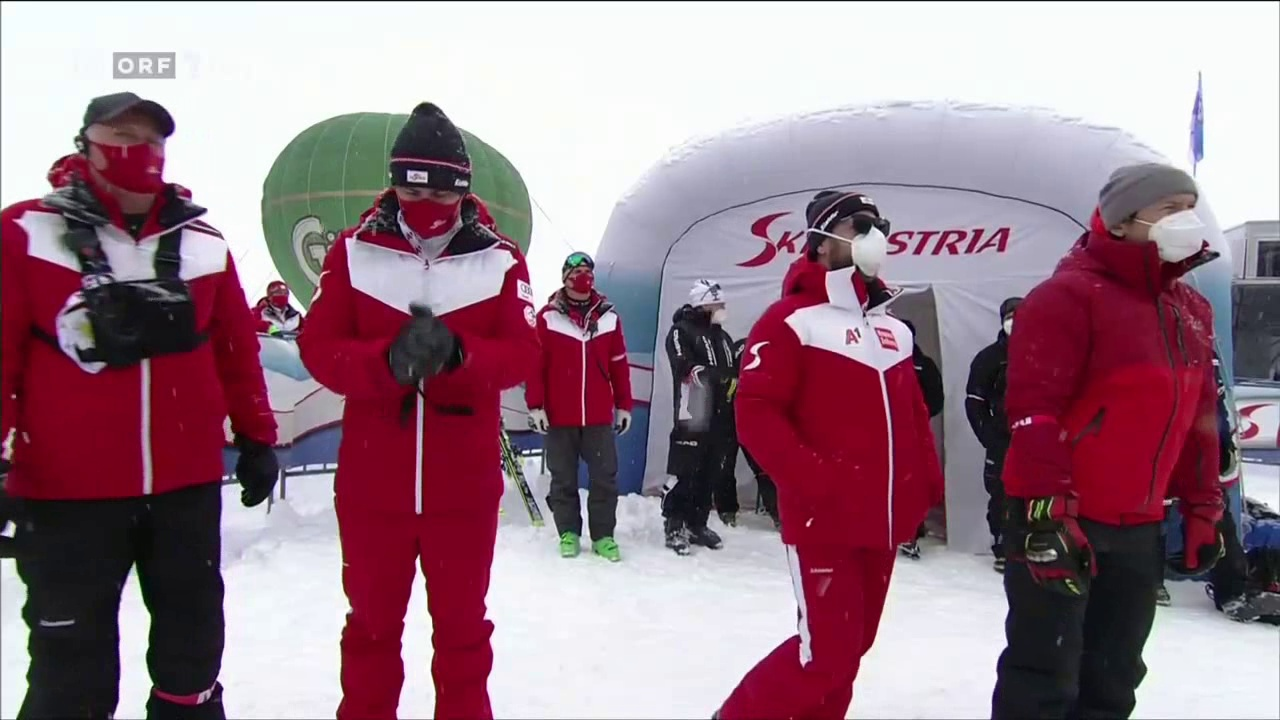a1: (845, 329, 866, 347)
